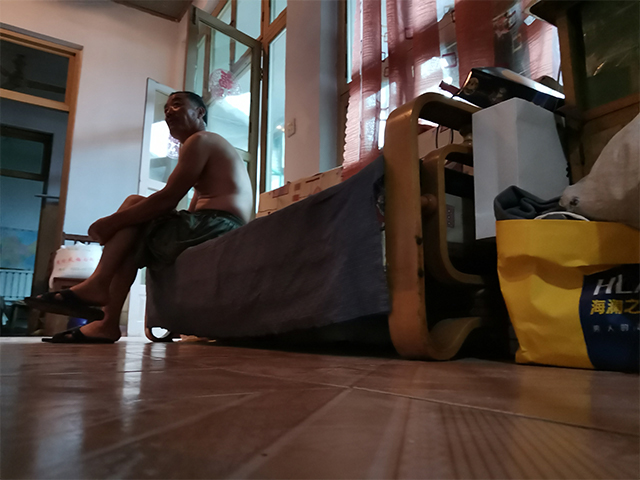stool: (137, 89, 491, 363)
